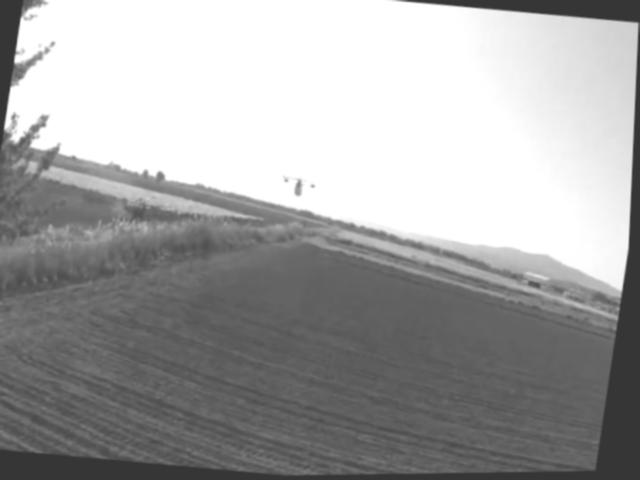hedef: (253, 153, 349, 219)
